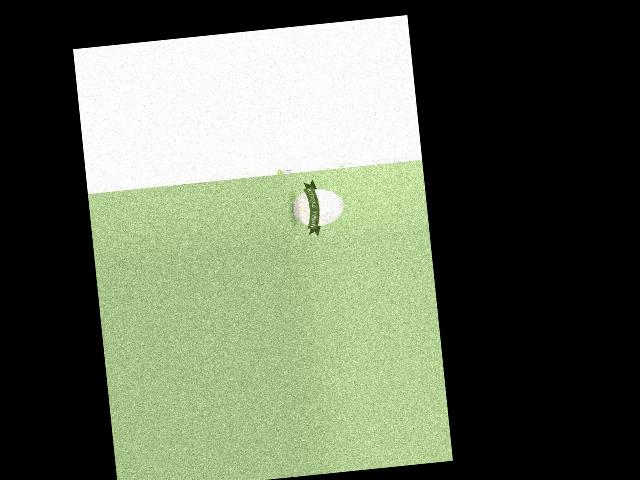egg: (291, 186, 345, 227)
